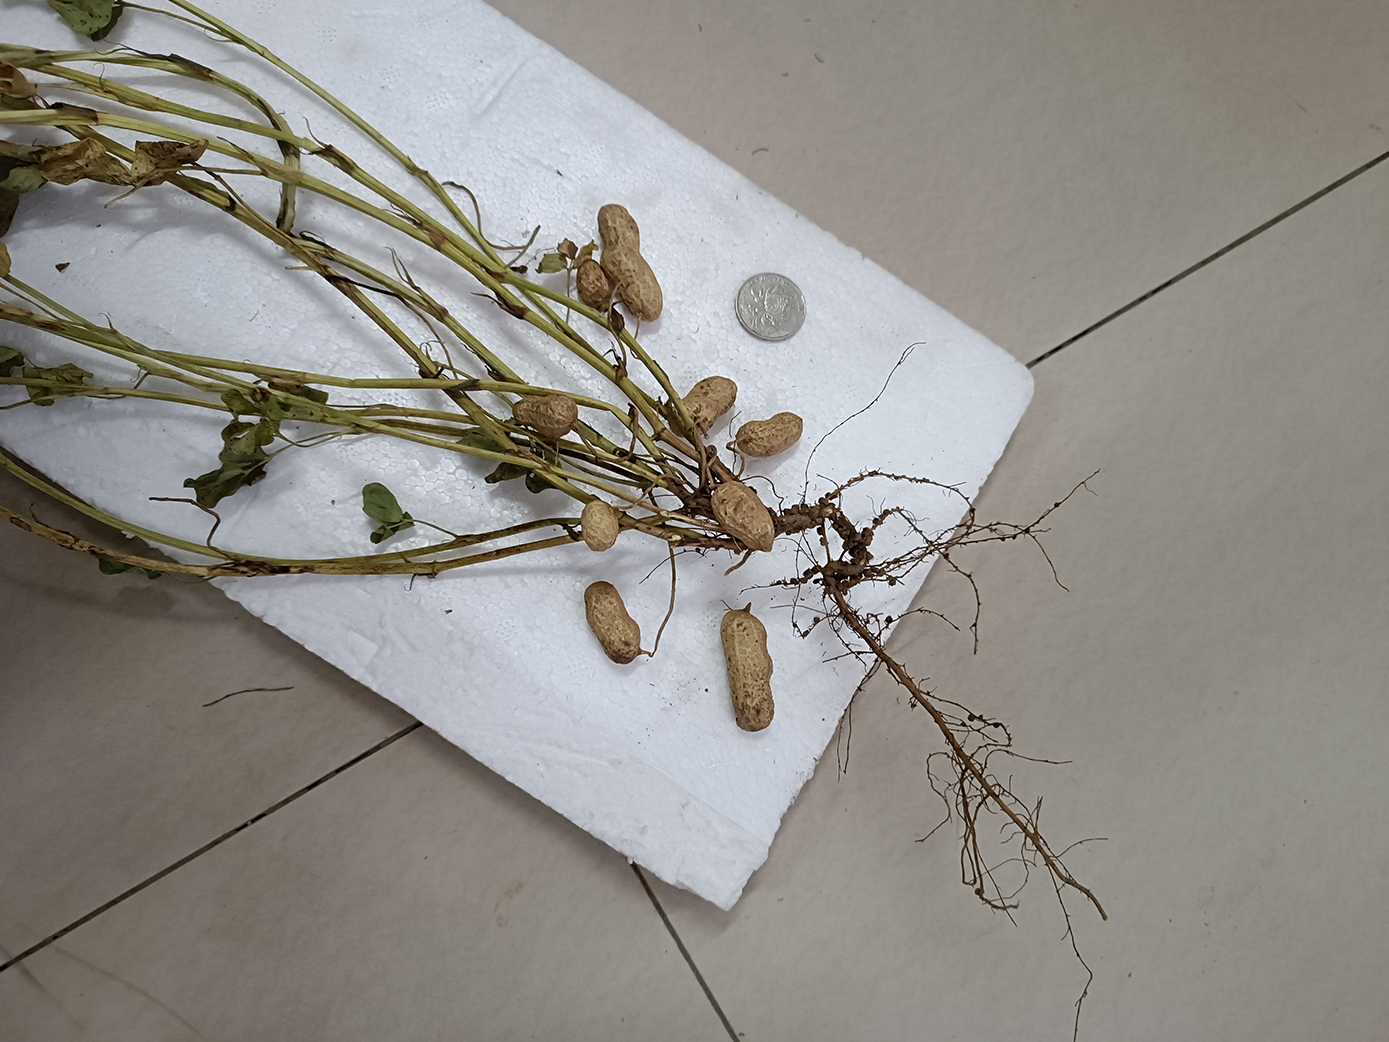h: (597, 205, 663, 321), (722, 610, 774, 731), (711, 481, 776, 553), (586, 583, 641, 663), (679, 377, 740, 431), (736, 410, 805, 456), (511, 395, 579, 437), (582, 501, 618, 551)
l: (576, 260, 610, 308)
